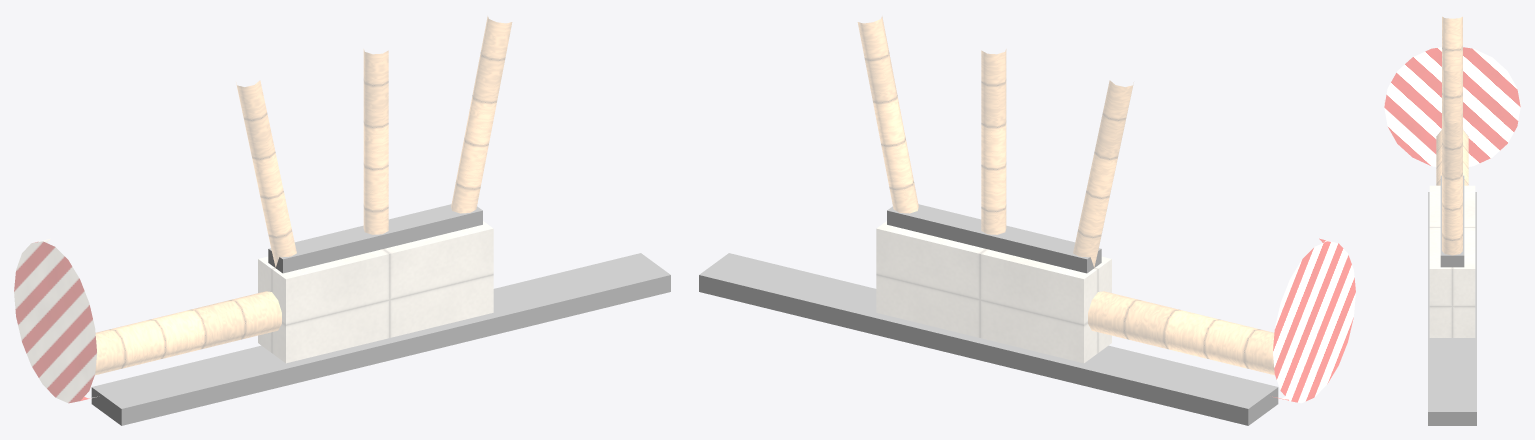
Rendered from level.gltf.
The picture shows the model from 3 angles, left to right: view 1: azimuth 30°, elevation 25°; view 2: azimuth 150°, elevation 25°; view 3: azimuth 270°, elevation 25°; orthographic projection. The views are drawn at different scales.
Parts seen in each view (by area): view 1: P_Modul_01_Pusher, P_Modul_01_Rinne, P_Modul_01_Filler; view 2: P_Modul_01_Pusher, P_Modul_01_Rinne, P_Modul_01_Filler; view 3: P_Modul_01_Pusher, P_Modul_01_Rinne, P_Modul_01_Filler.
Part boxes in pixels (box(x1,y1,x2,y2)): P_Modul_01_Pusher: box(14, 16, 512, 403); P_Modul_01_Rinne: box(91, 253, 670, 425); P_Modul_01_Filler: box(268, 204, 482, 273); P_Modul_01_Pusher: box(857, 16, 1355, 403); P_Modul_01_Rinne: box(699, 253, 1278, 425); P_Modul_01_Filler: box(887, 204, 1101, 273); P_Modul_01_Pusher: box(1384, 16, 1520, 337); P_Modul_01_Rinne: box(1428, 192, 1476, 425); P_Modul_01_Filler: box(1440, 175, 1464, 267).
Bounding box in the file's own units: 15 × 7.23 × 3.6.
Materials: 3 (3 with a texture image).
